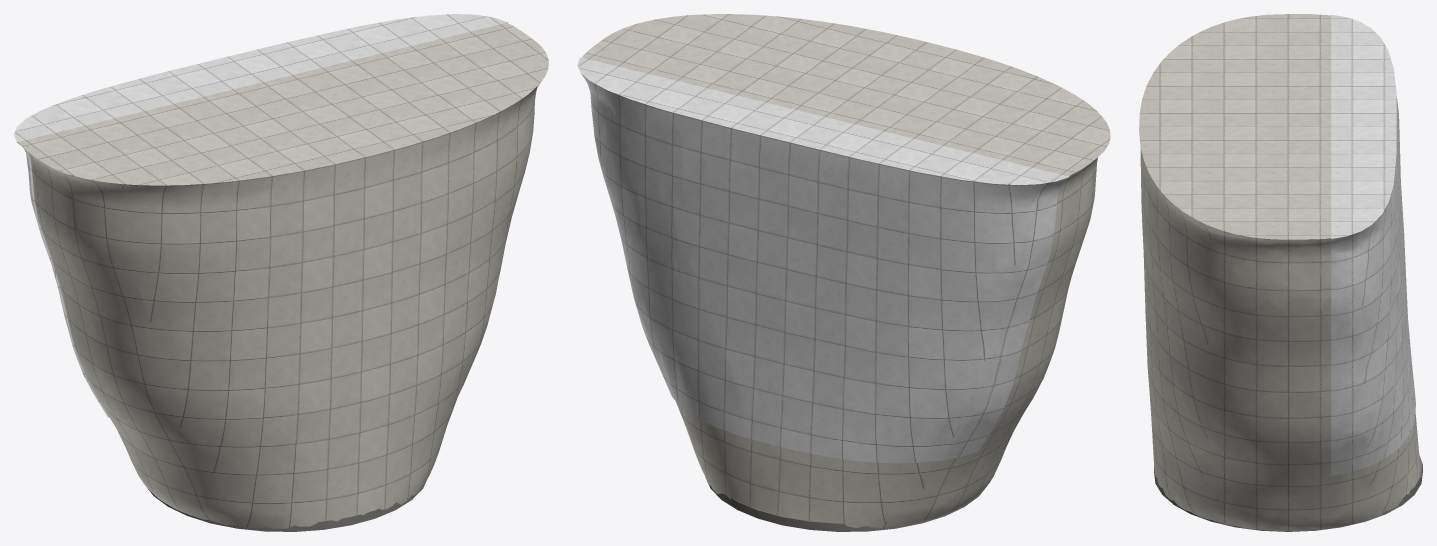
The model's file is aero01_mk2_adapter_mk2_s.glb.
The picture shows the model from 3 angles, left to right: view 1: azimuth 30°, elevation 25°; view 2: azimuth 150°, elevation 25°; view 3: azimuth 270°, elevation 25°; orthographic projection. The views are drawn at different scales.
Parts seen in each view (by area): view 1: adapter, belly_tiles, round_ring; view 2: belly_tiles, adapter, round_ring; view 3: adapter, belly_tiles, round_ring.
Boxes of the visible parts, x1,y1,x2,y2 form: adapter: [19, 23, 548, 528]; belly_tiles: [14, 14, 507, 417]; round_ring: [147, 480, 426, 531]; belly_tiles: [577, 57, 1069, 463]; adapter: [582, 14, 1110, 527]; round_ring: [705, 477, 988, 531]; adapter: [1139, 14, 1420, 531]; belly_tiles: [1331, 14, 1415, 475]; round_ring: [1154, 456, 1422, 531].
Bounding box in the file's own units: 2.5 × 1.8 × 1.33.
3 materials, 3 textured.
